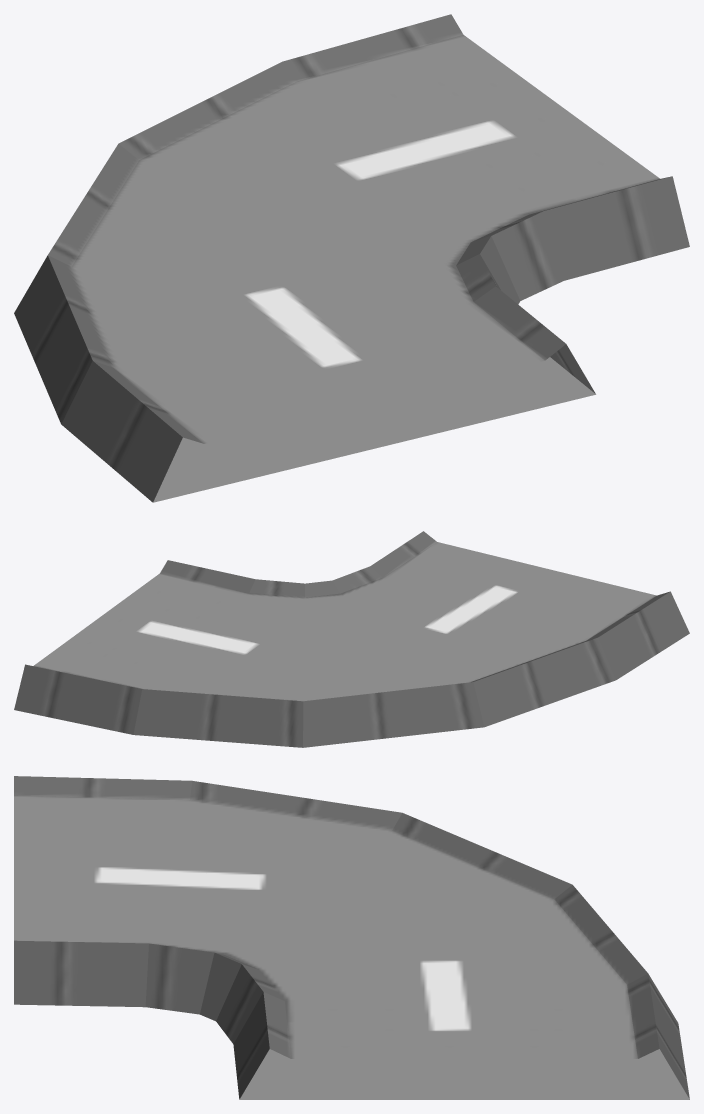
File: co_Street_Asphalted_B_Curve90.fbx
3 views of the same model, one above another, from view 1: azimuth 30°, elevation 25°; view 2: azimuth 150°, elevation 25°; view 3: azimuth 270°, elevation 25° (orthographic). The views are drawn at different scales.
Visible parts, largest first — view 1: Street_Asphalted_B_Curve90; view 2: Street_Asphalted_B_Curve90; view 3: Street_Asphalted_B_Curve90.
Boxes of the visible parts, left/top/right/bottom form: Street_Asphalted_B_Curve90: left=14, top=14, right=689, bottom=502; Street_Asphalted_B_Curve90: left=14, top=531, right=689, bottom=747; Street_Asphalted_B_Curve90: left=14, top=776, right=689, bottom=1099.
Bounding box in the file's own units: 1500 × 125 × 1500.
